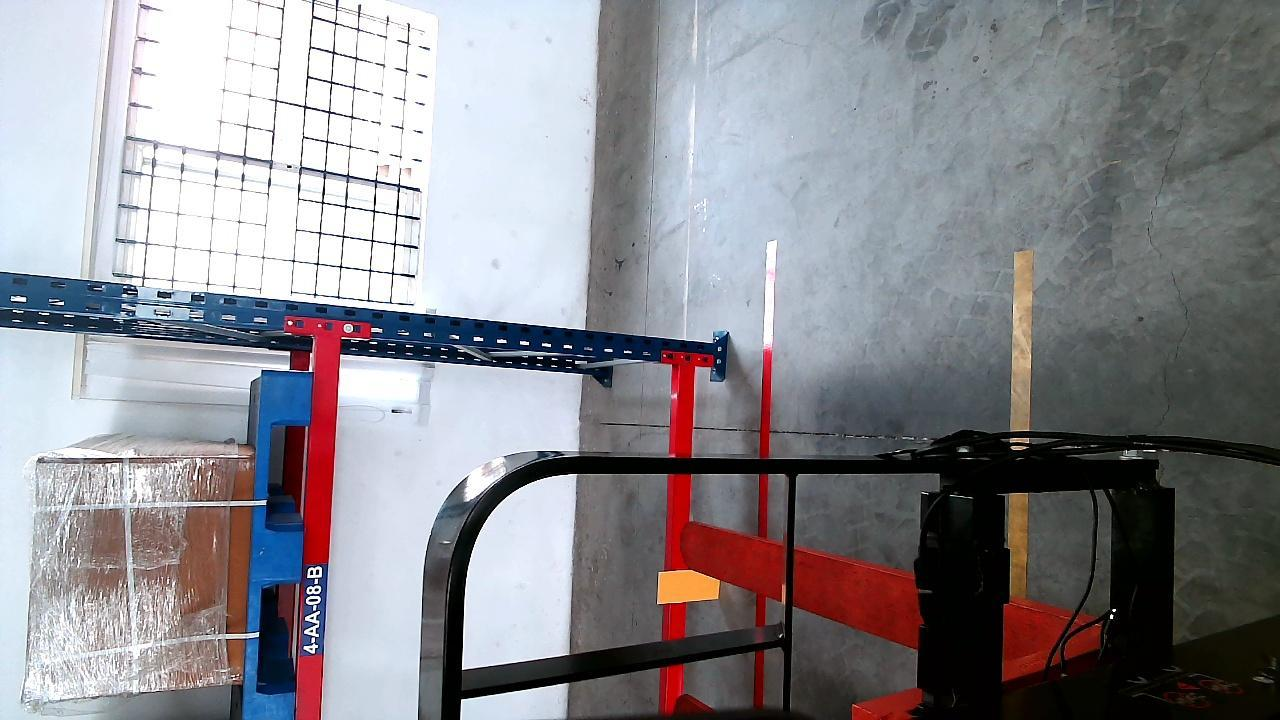red_line: (758, 243, 780, 540)
yellow_line: (1010, 247, 1031, 445)
